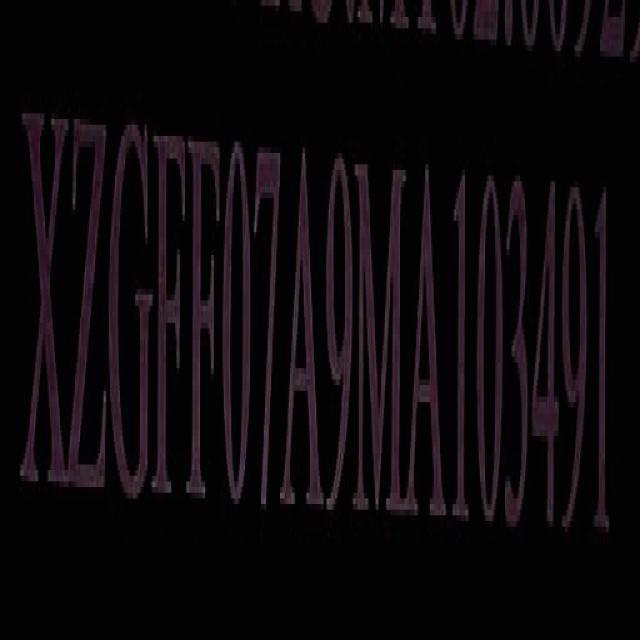0: (222, 128, 254, 520), (477, 165, 506, 539)
1: (448, 155, 475, 535), (591, 189, 614, 539)
3: (502, 174, 530, 539)
4: (535, 170, 560, 542)
7: (254, 135, 284, 520)
9: (324, 149, 355, 524), (561, 172, 589, 548)
A: (288, 138, 324, 523), (411, 148, 445, 535)
F: (151, 120, 188, 510), (190, 116, 220, 520)
G: (107, 122, 153, 506)
M: (355, 147, 406, 532)
X: (18, 109, 70, 491)
Z: (70, 100, 108, 516)
